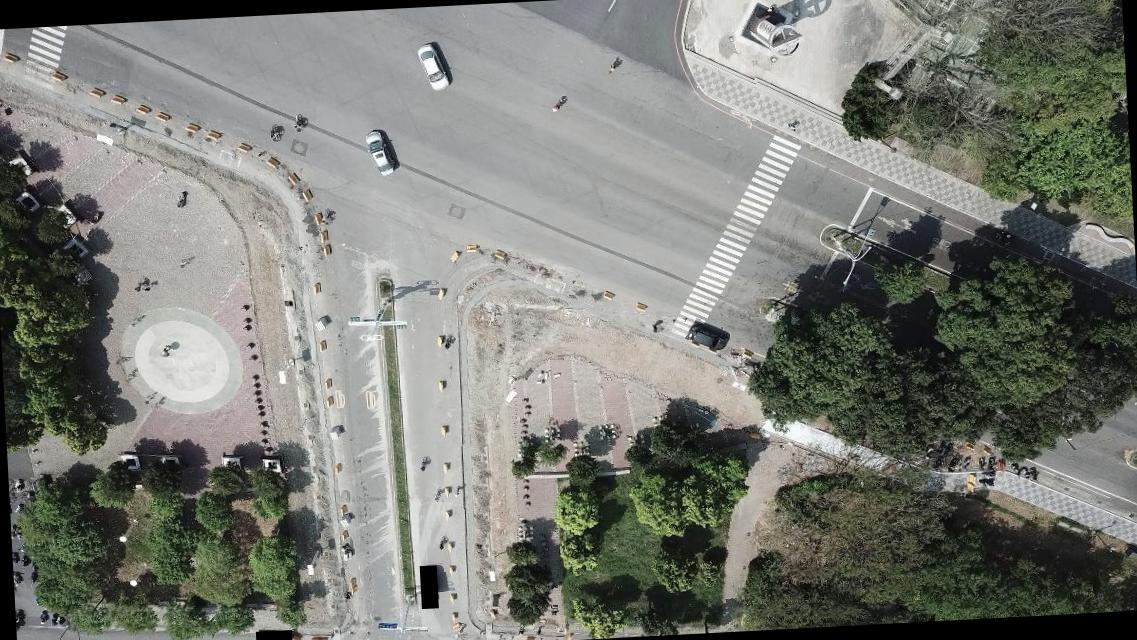vehicle: (416, 42, 450, 92), (365, 129, 395, 177), (684, 322, 728, 352)
